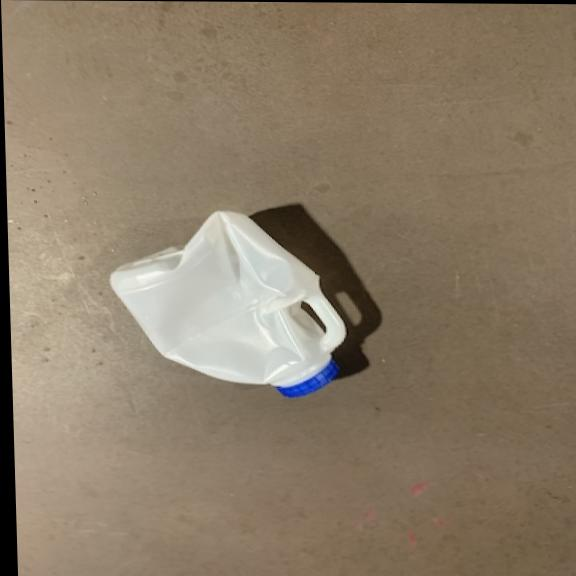Plastik: (100, 208, 348, 404)
